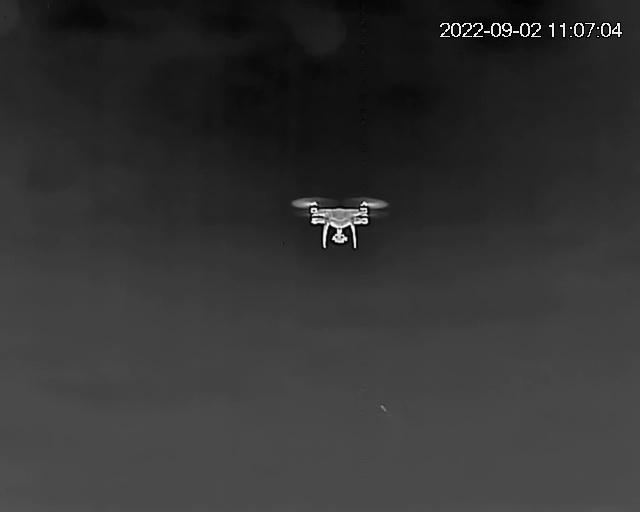DJI-Phantom: (289, 195, 390, 249)
